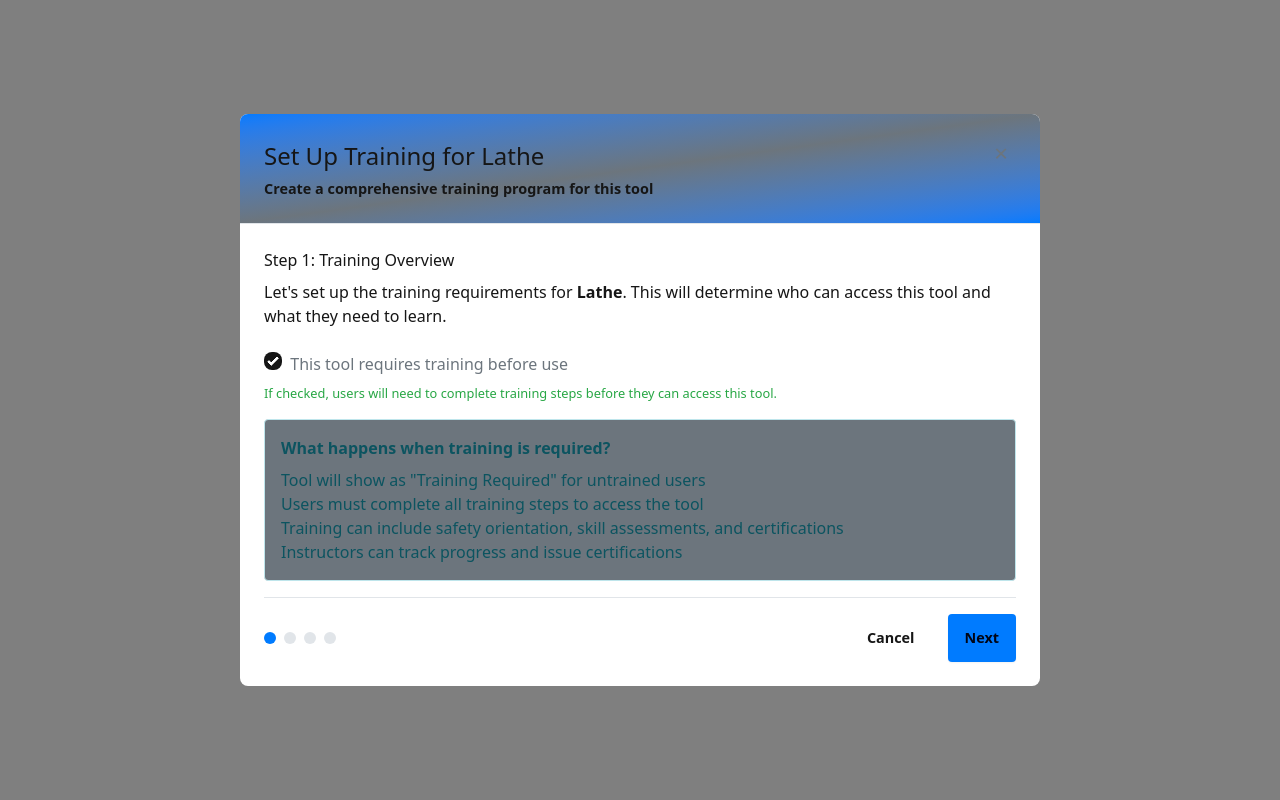
walking the wizard › will not leave the step page until every step has a name and a description
The width and height of the screenshot is (1280, 800).
Click the button "Next" at (982, 638), box x1=948 y1=614 x2=1016 y2=662
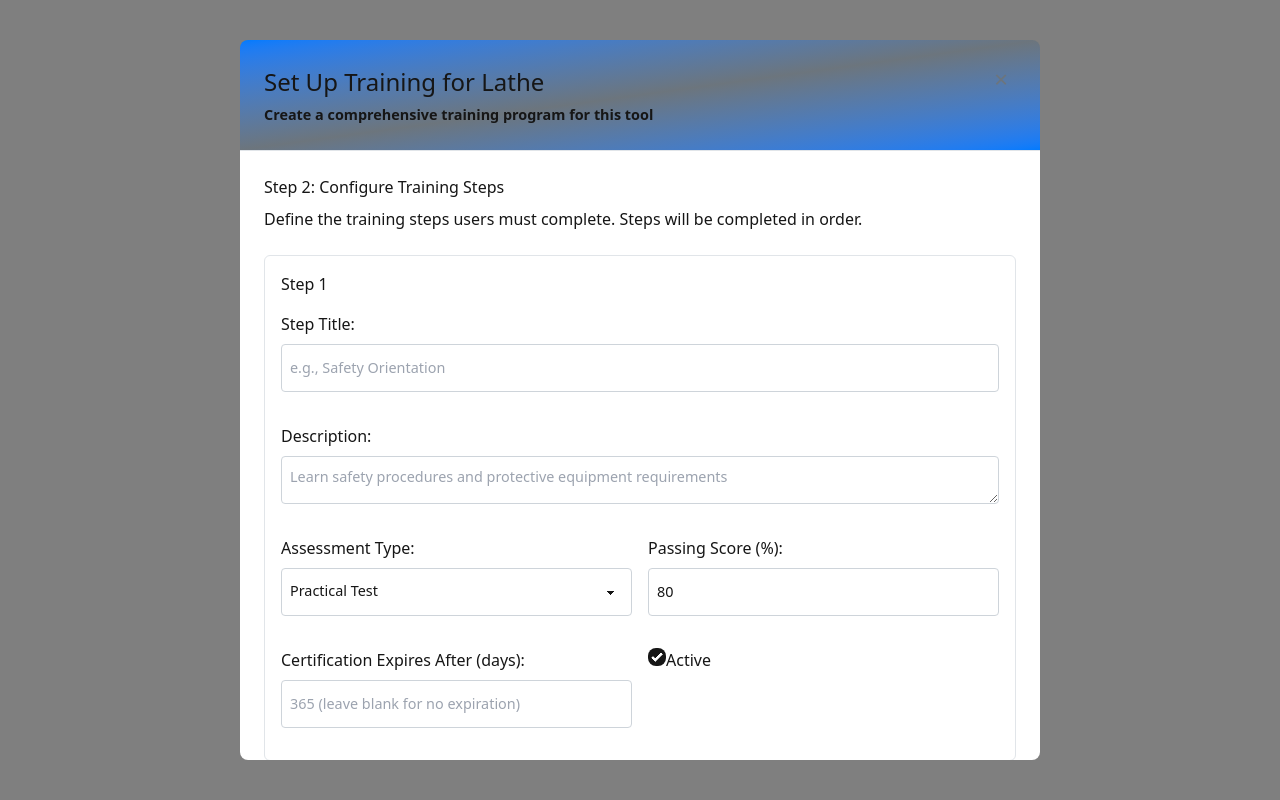
Type "Safety" into the field with placeholder "e.g., Safety Orientation" at (640, 368), box x1=281 y1=344 x2=999 y2=392
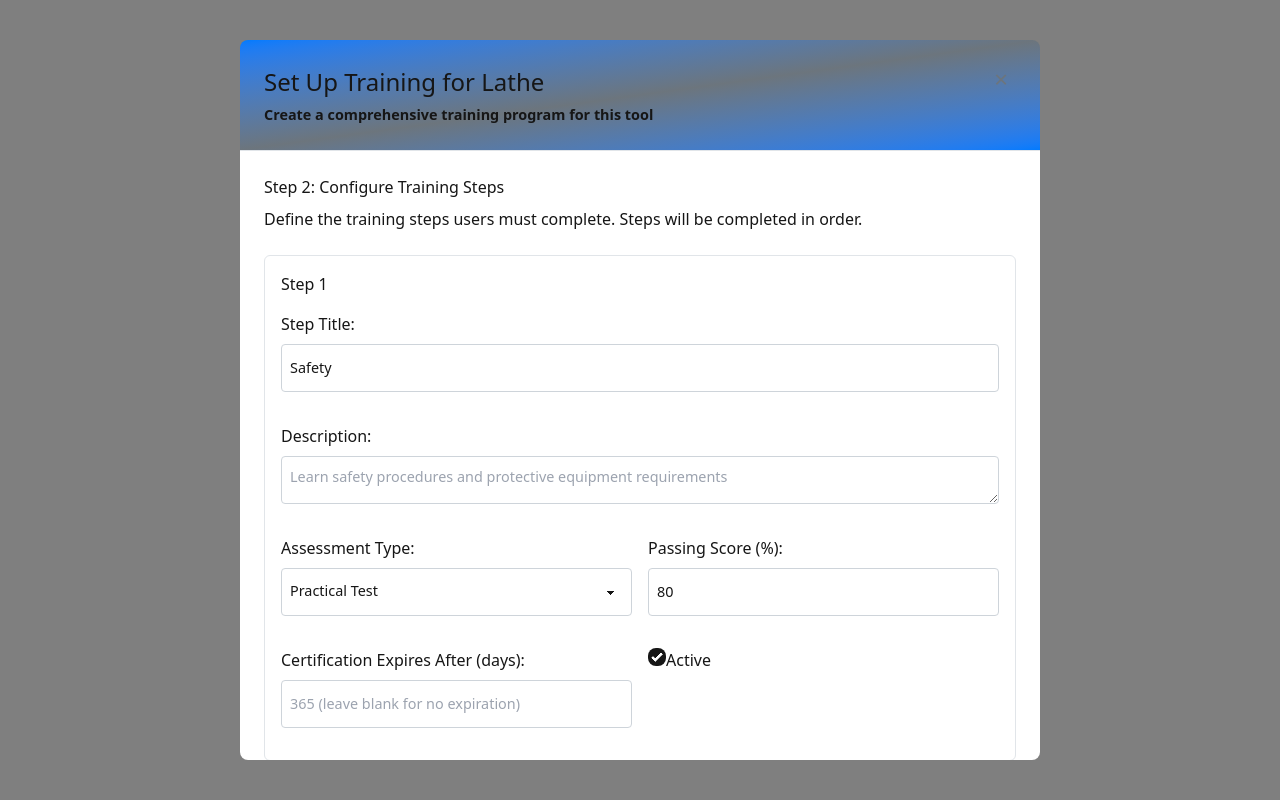
Replace the text in the text box with "Guards and PPE" at (640, 480), box x1=281 y1=456 x2=999 y2=504
(page scrolled)
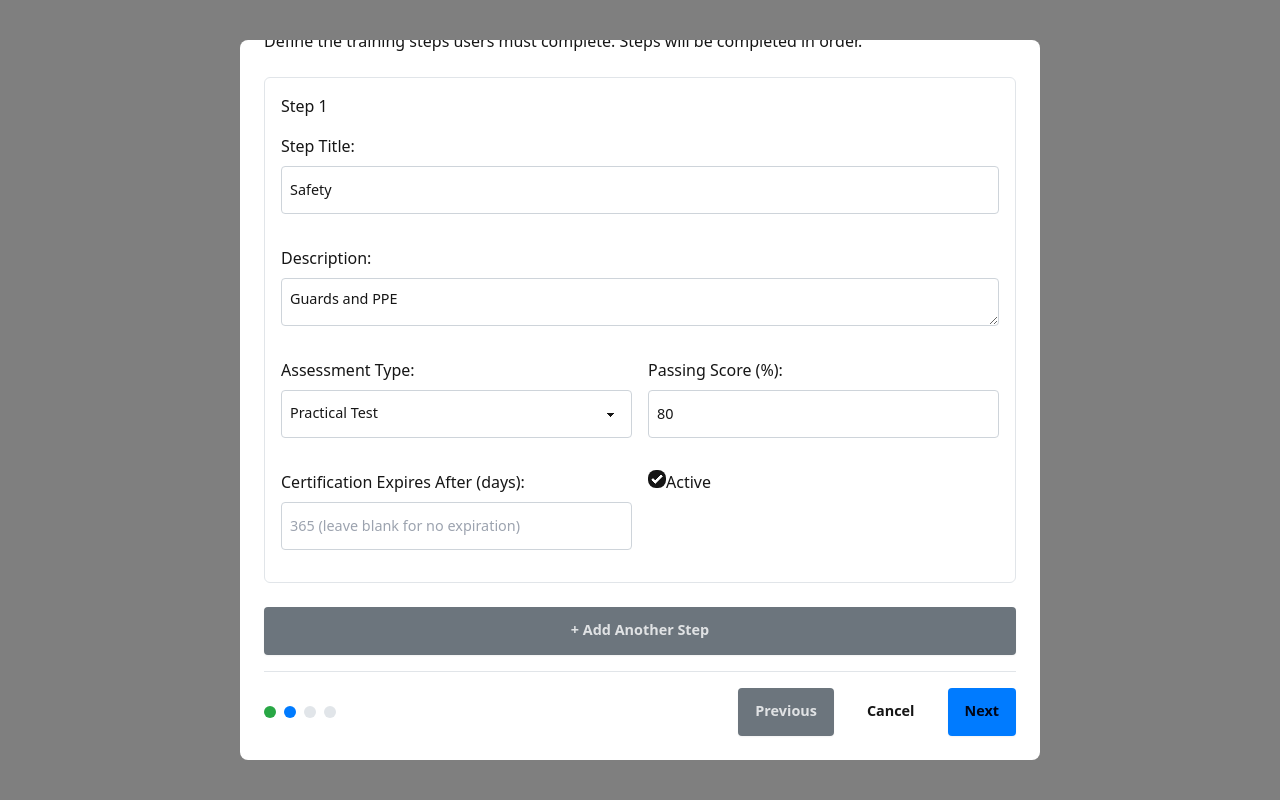
Check: the button "Next" is enabled, box x1=948 y1=688 x2=1016 y2=736
